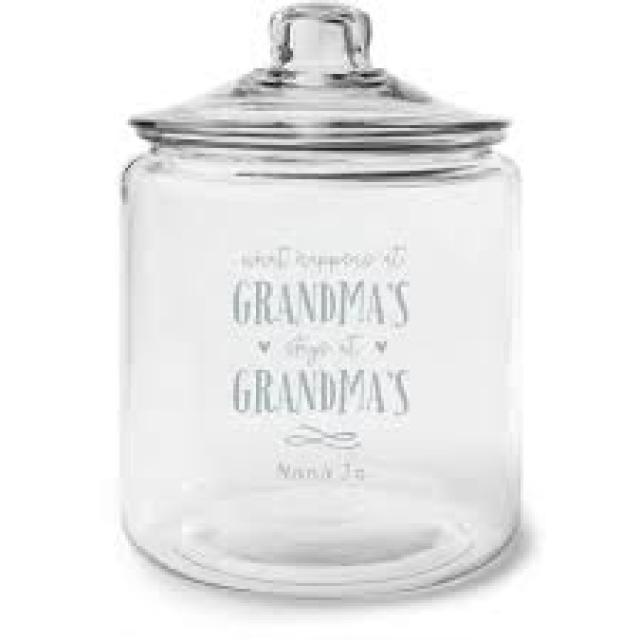glass: (119, 0, 520, 594)
